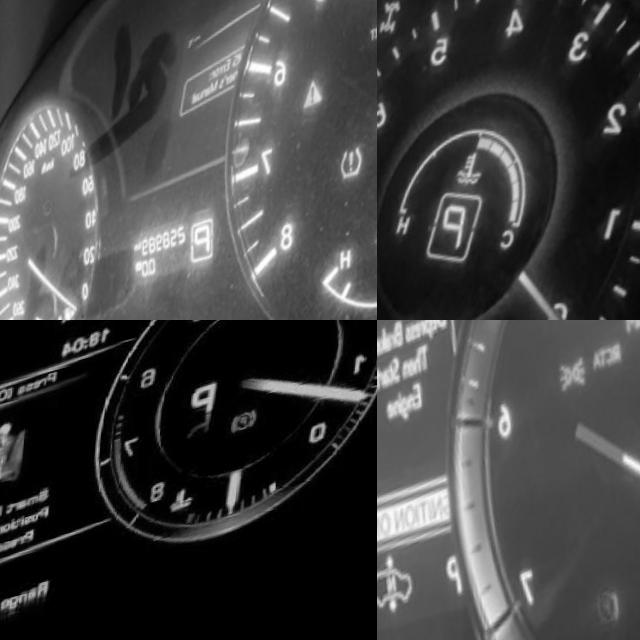Engine cooling system: (185, 494, 214, 528)
